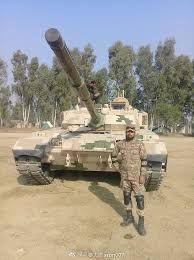uniform: (110, 123, 151, 228)
